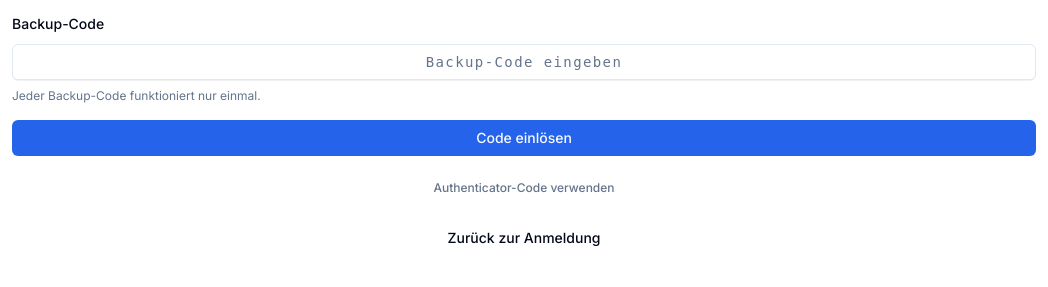
it: BackupForm › rejects empty submission
Click the button "Code einlösen" at (524, 138), box [12, 120, 1036, 156]
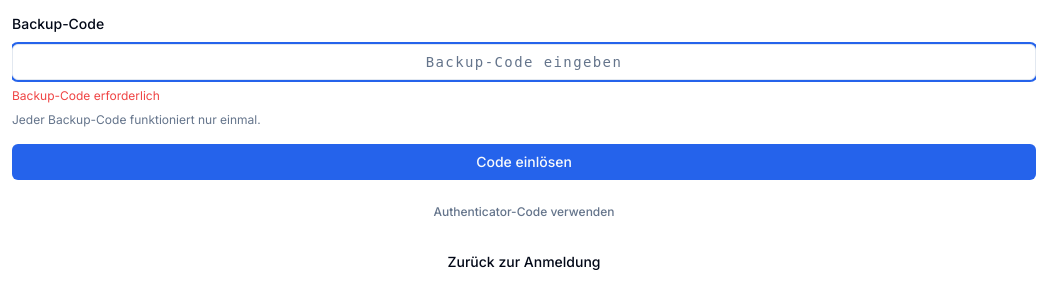
Expected: the text "Backup-Code erforderlich" is shown, [12, 88, 160, 103]
